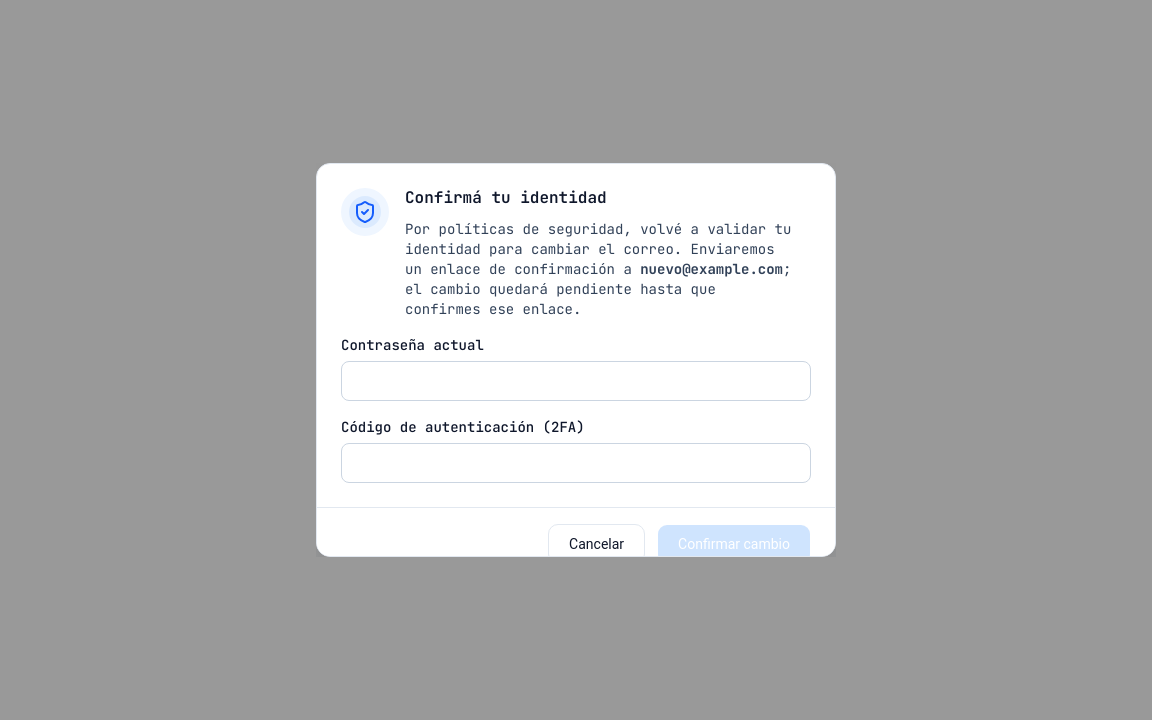
Test: SecurityReauthModal › muestra el error AUTH_FAILED dentro del modal
In the password field labelled "Contraseña actual": [576, 381] box [341,361,811,401], type "clave-actual"
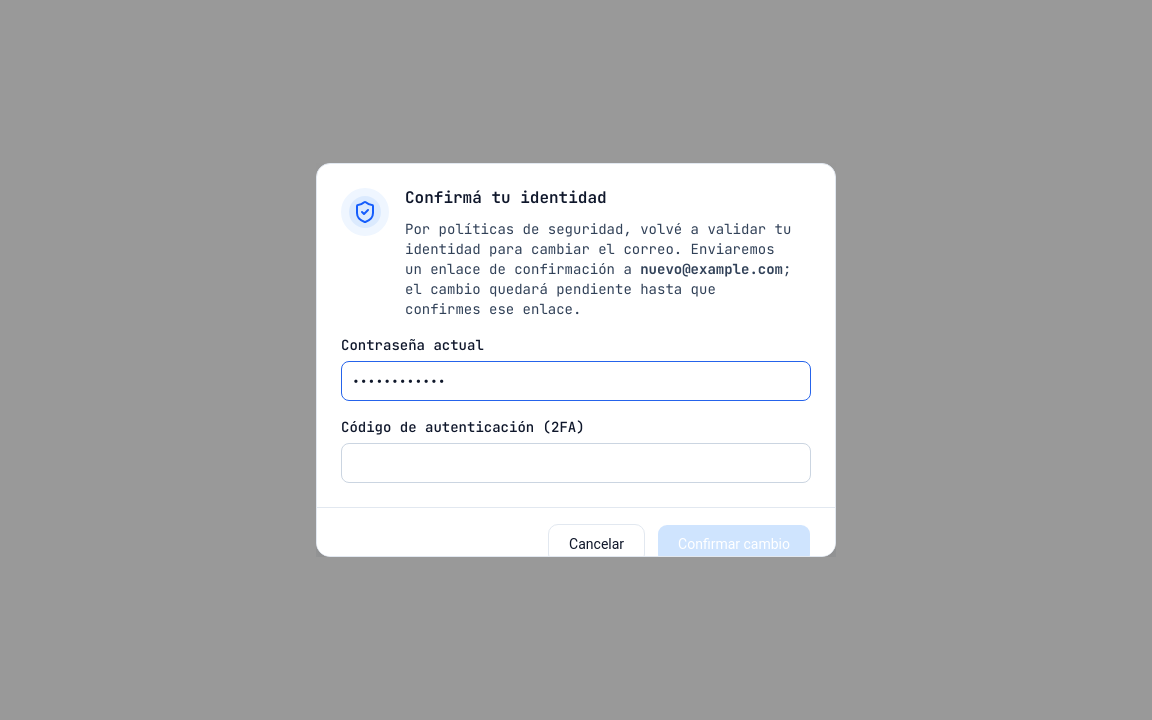
In the field labelled "Código de autenticación (2FA)": [576, 463] box [341,443,811,483], type "123456"
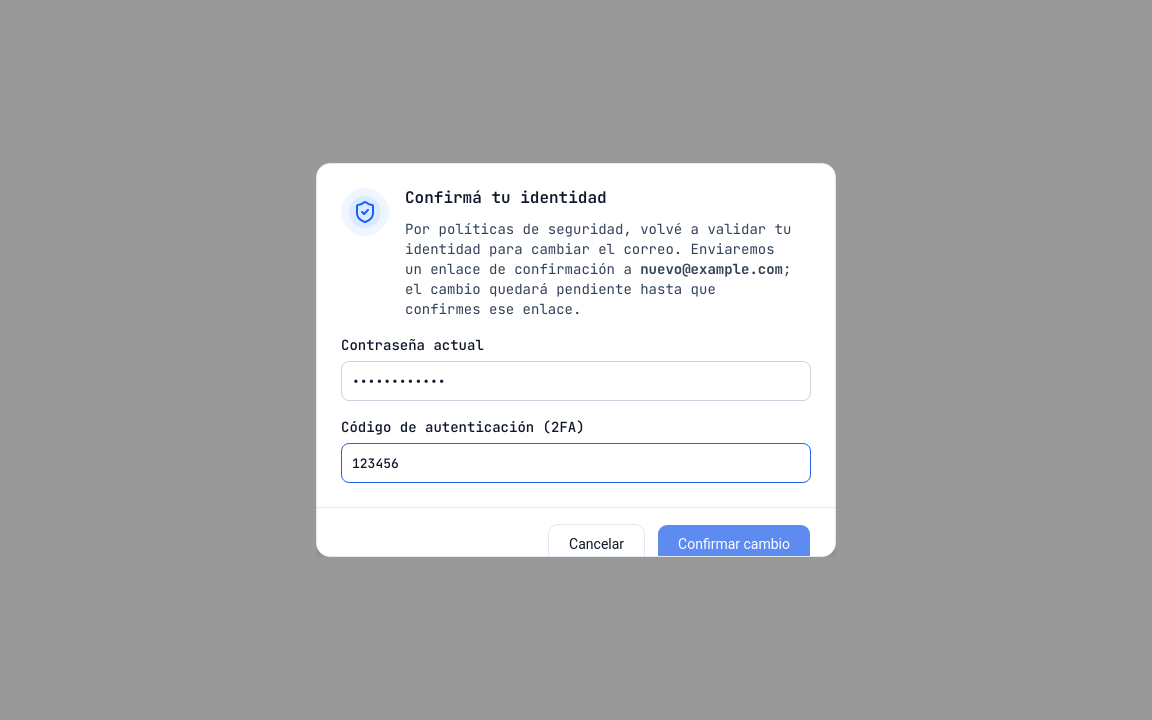
Click the button "Confirmar cambio": [734, 544] box [657,524,811,564]
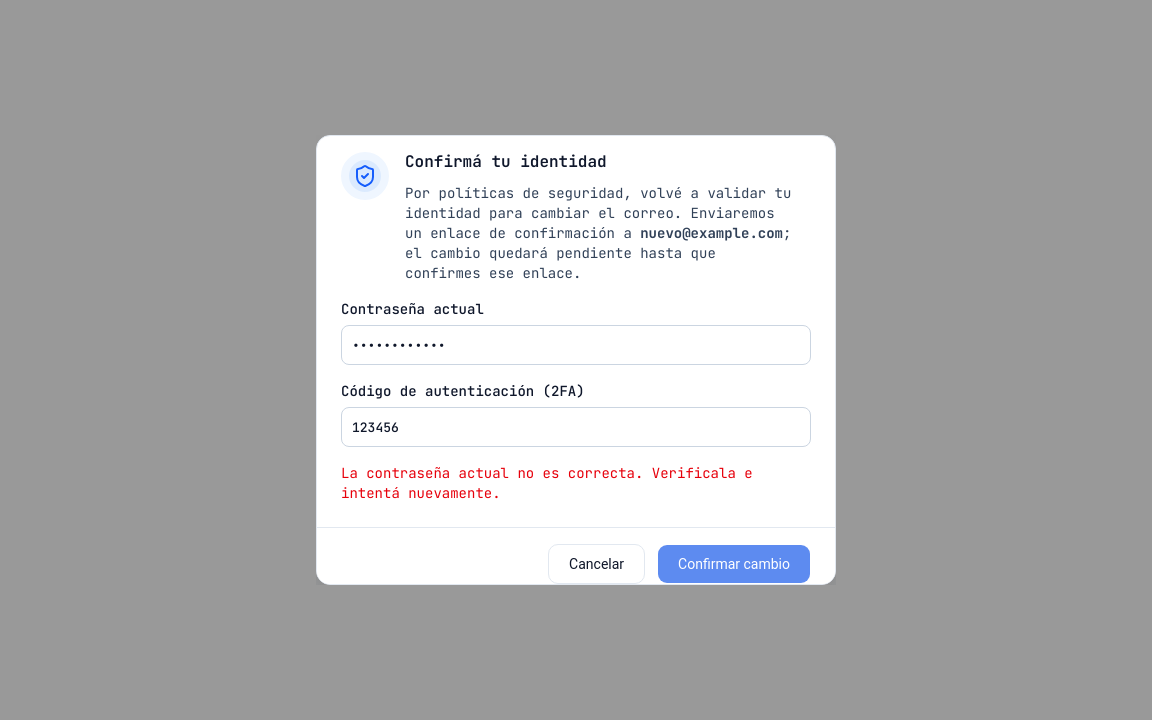
Expected: the dialog is shown, [316,135,836,585]
Expected: the message shows "La contraseña actual no es correcta.", [341,464,753,502]
